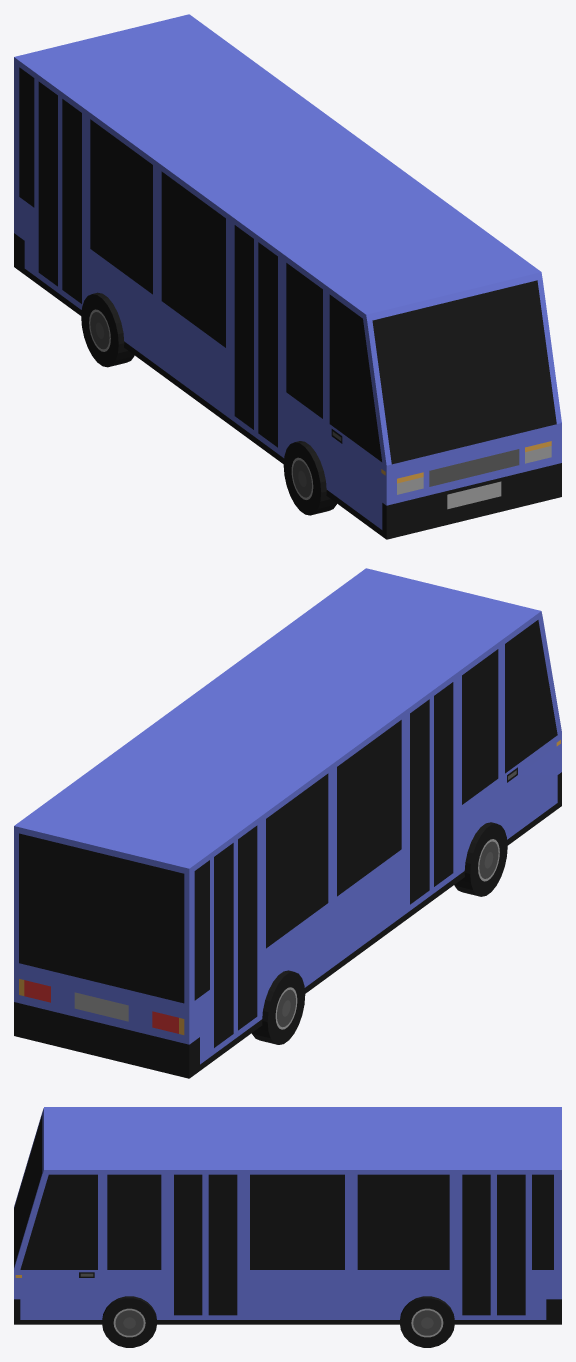
File: Pojazd02.fbx
The picture shows the model from 3 angles, top to bottom: view 1: azimuth 30°, elevation 25°; view 2: azimuth 150°, elevation 25°; view 3: azimuth 270°, elevation 25°; orthographic projection. The views are drawn at different scales.
Parts seen in each view (by area): view 1: Cube; view 2: Cube; view 3: Cube.
Boxes of the visible parts, x1,y1,x2,y2 form: Cube: (14, 14, 561, 539); Cube: (14, 568, 561, 1078); Cube: (14, 1107, 561, 1347).
Bounding box in the file's own units: 125 × 153 × 432.
